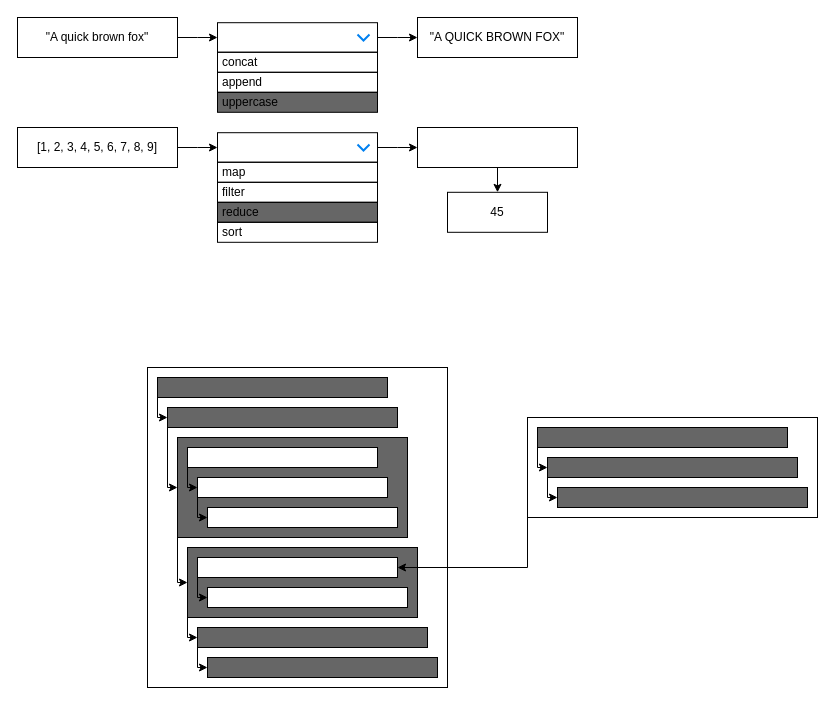
Image size: 835x705. Some labels were removed from this diagram. The centre of each missing label's shape, as x and y in pixels:
"(acc, item) => acc + item" goes at (x=497, y=147).
"Search a string method" goes at (x=297, y=37).
"Search an array method" goes at (x=297, y=147).
